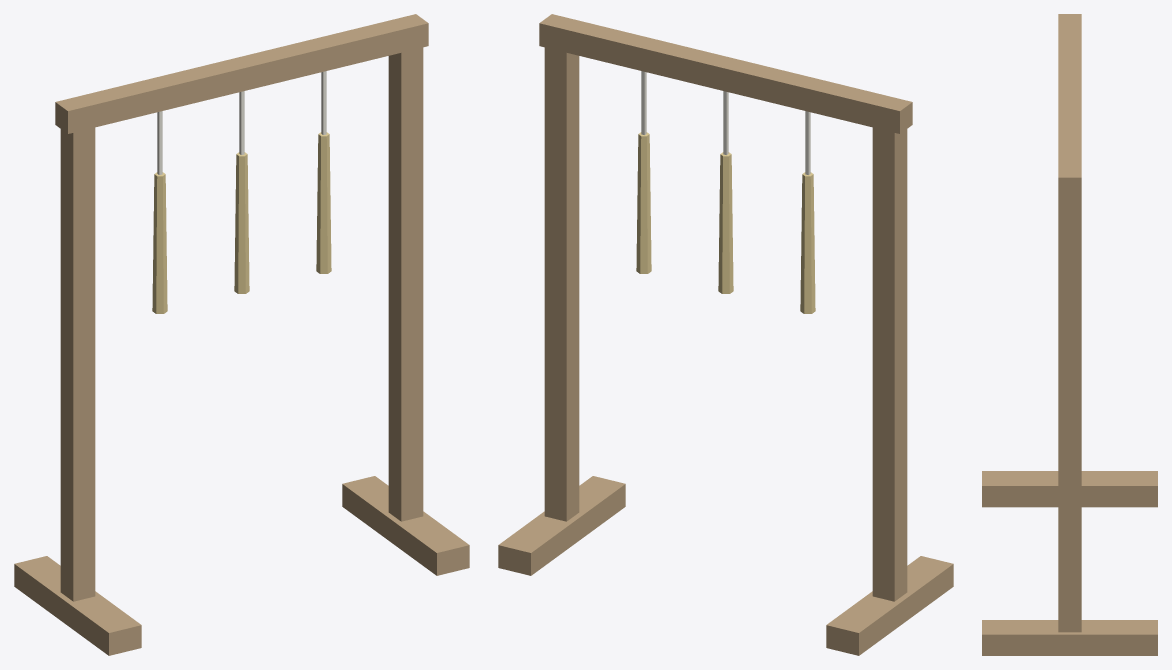
The model's file is prop-dipping-rack.fbx.
The picture shows the model from 3 angles, left to right: view 1: azimuth 30°, elevation 25°; view 2: azimuth 150°, elevation 25°; view 3: azimuth 270°, elevation 25°; orthographic projection. The views are drawn at different scales.
Visible parts, largest first — view 1: prop-dipping-rack; view 2: prop-dipping-rack; view 3: prop-dipping-rack.
Boxes of the visible parts, x1,y1,x2,y2 form: prop-dipping-rack: (14, 14, 469, 655); prop-dipping-rack: (498, 14, 953, 655); prop-dipping-rack: (982, 14, 1157, 655).
Size of the model in its own units: 66 by 90 by 30.
